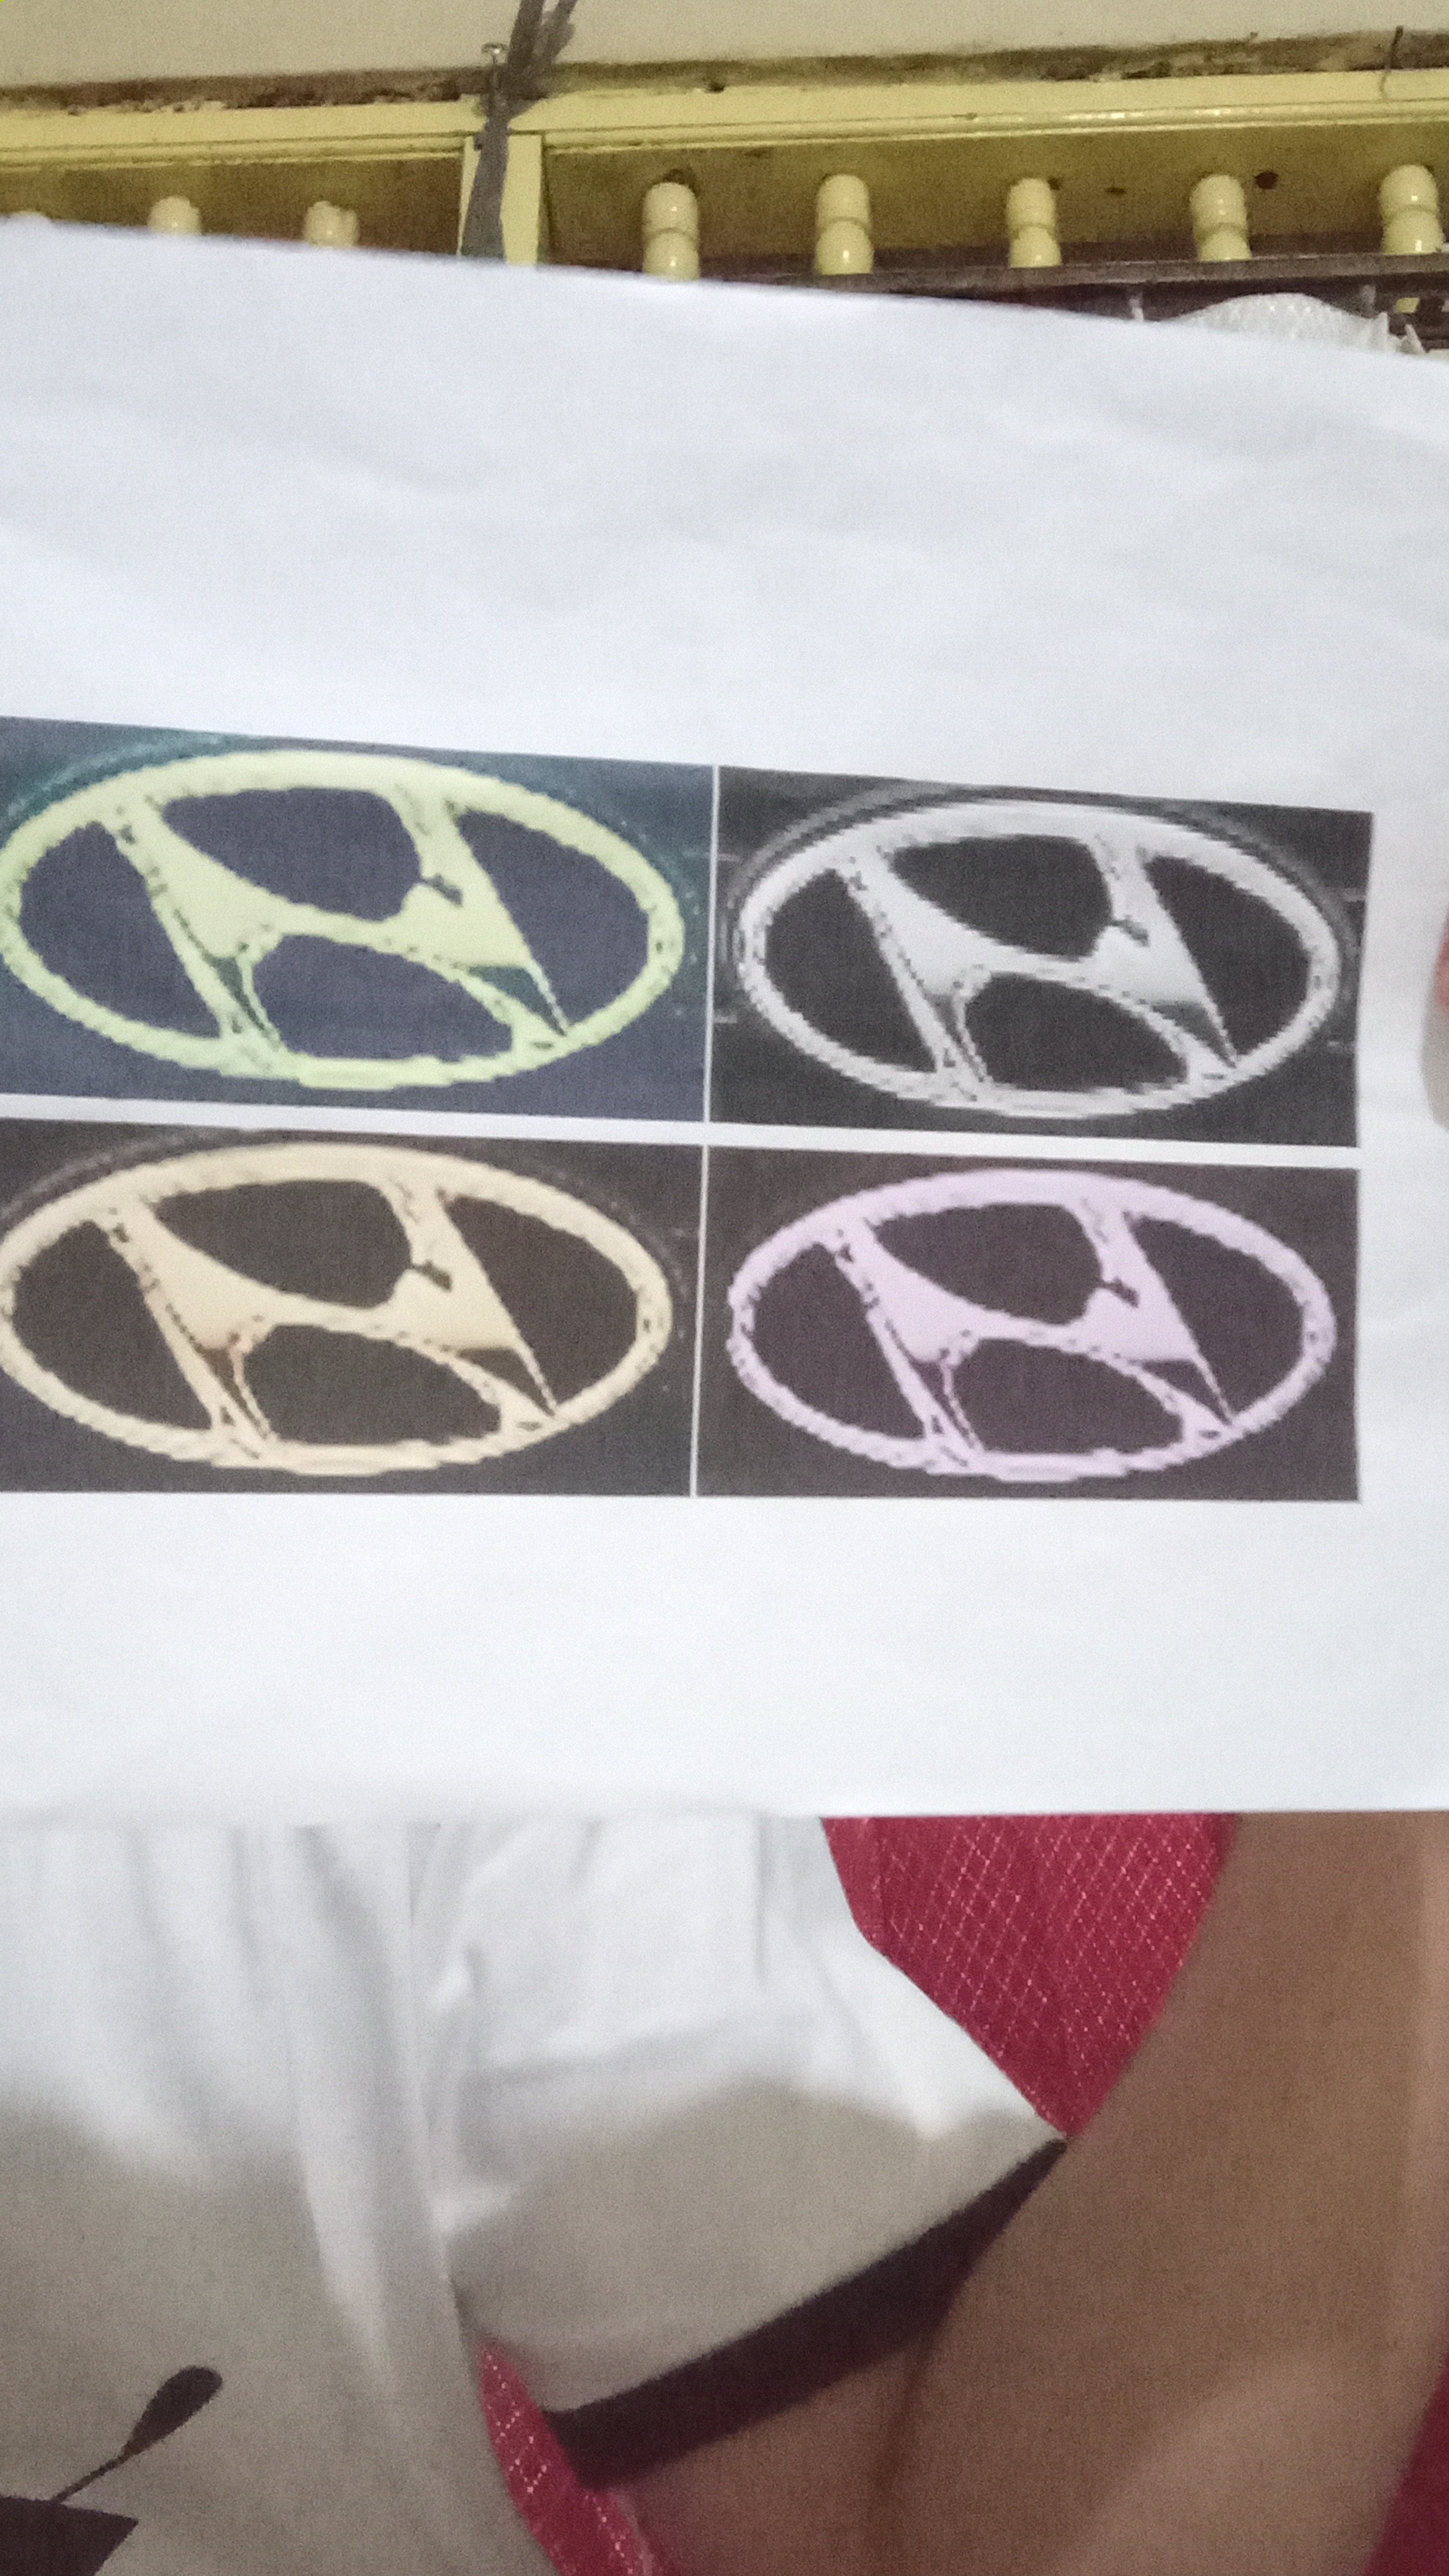Hyundai: (11, 718, 686, 1132), (0, 1131, 681, 1502), (731, 773, 1368, 1132), (720, 1148, 1350, 1500)
